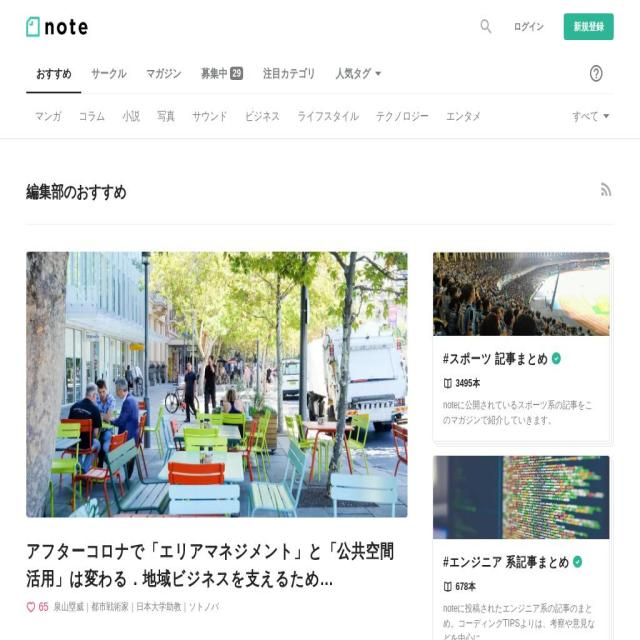button: (288, 94, 368, 138), (368, 94, 438, 138), (253, 54, 326, 94), (326, 54, 396, 94), (191, 54, 254, 94), (236, 94, 289, 138), (184, 94, 236, 138), (438, 94, 490, 138), (562, 94, 614, 138), (136, 54, 192, 94), (27, 54, 82, 94), (82, 54, 136, 94), (26, 94, 70, 138), (70, 94, 114, 138), (148, 94, 184, 138), (114, 94, 148, 138), (564, 13, 614, 40), (27, 16, 88, 37)
heading: (27, 541, 394, 590), (26, 179, 555, 204), (27, 16, 88, 37)
image: (26, 252, 408, 518), (433, 252, 609, 336), (433, 456, 609, 540)
text: (443, 601, 599, 640), (443, 398, 599, 428), (253, 54, 326, 94), (53, 599, 219, 615), (136, 54, 192, 94), (27, 54, 82, 94), (82, 54, 136, 94), (443, 555, 573, 570), (443, 352, 551, 366), (336, 68, 371, 79), (456, 376, 480, 392), (572, 109, 598, 123), (456, 579, 476, 595), (514, 22, 544, 32), (574, 22, 604, 32), (202, 68, 228, 79), (230, 67, 244, 80), (39, 601, 49, 613)
